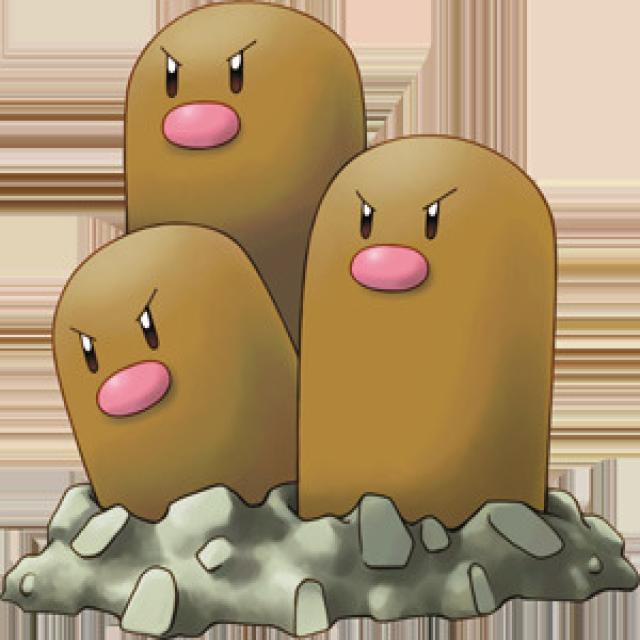Dugtrio: (50, 4, 561, 543)
